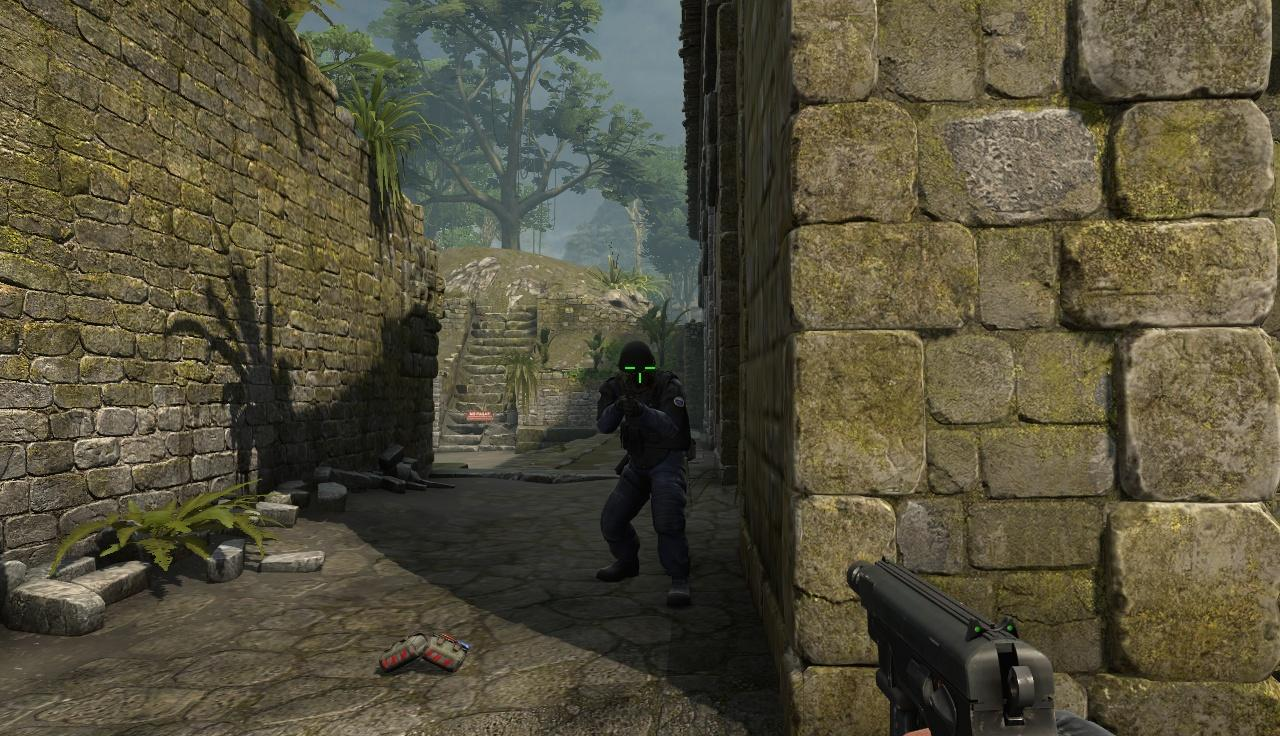ct: (598, 341, 685, 597)
cthead: (618, 341, 658, 386)
pistol: (836, 558, 1076, 736)
